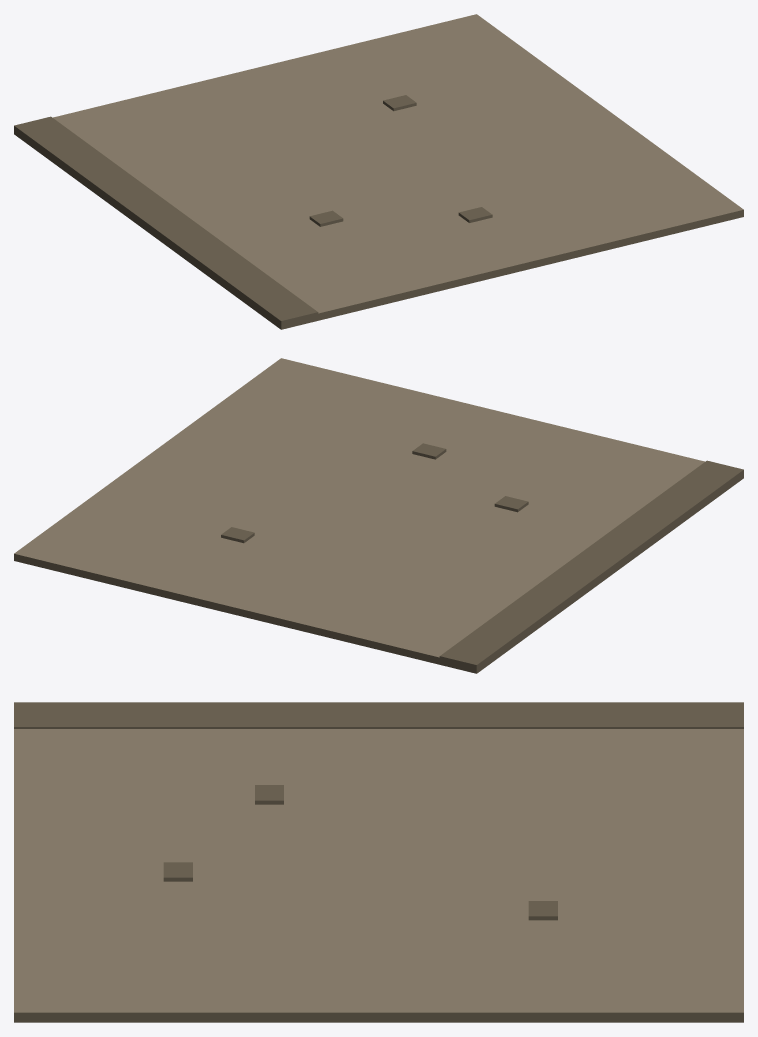
Rendered from road_tee.glb.
3 views of the same model, one above another, from view 1: azimuth 30°, elevation 25°; view 2: azimuth 150°, elevation 25°; view 3: azimuth 270°, elevation 25° (orthographic). The views are drawn at different scales.
Visible parts, largest first — view 1: road_tee; view 2: road_tee; view 3: road_tee.
Part boxes in pixels (x1,y1,x2,y2): road_tee: (14, 14, 743, 329); road_tee: (14, 358, 743, 673); road_tee: (14, 702, 743, 1022).
Bounding box in the file's own units: 2 × 0.042 × 2.
